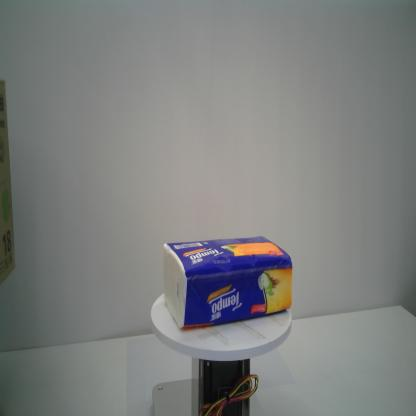Tissue: (162, 233, 296, 332)
